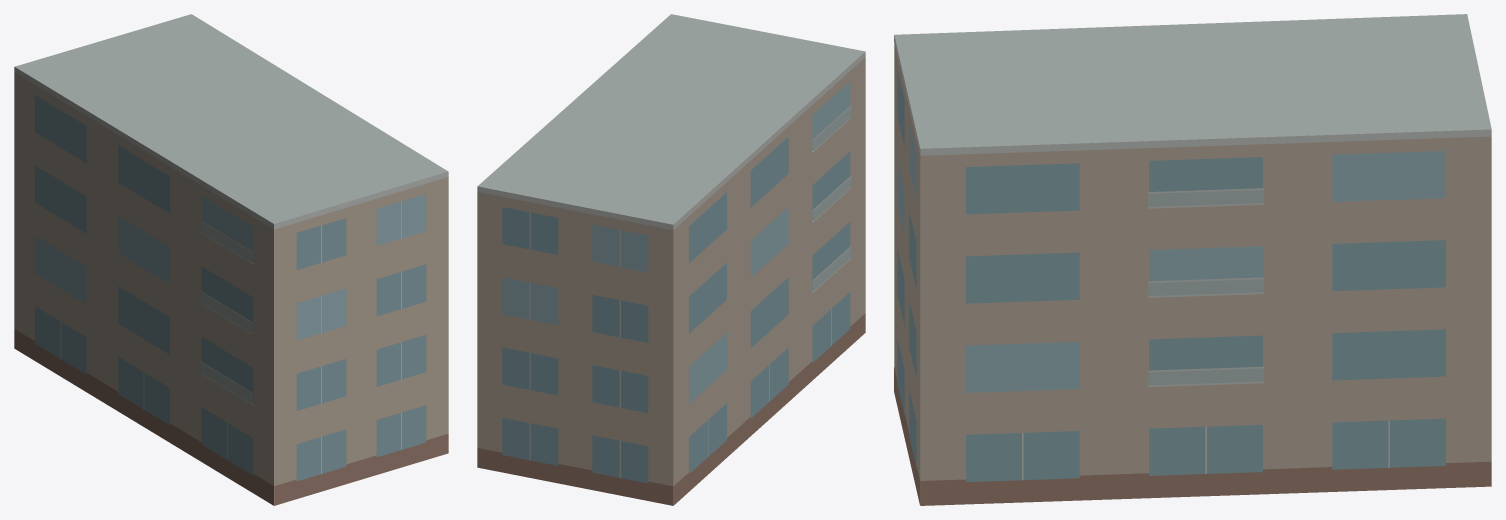
Rendered from survey-upis-32632824.glb.
3 views of the same model, side by side, from view 1: azimuth 30°, elevation 25°; view 2: azimuth 150°, elevation 25°; view 3: azimuth 270°, elevation 25° (orthographic). The views are drawn at different scales.
Visible parts, largest first — view 1: survey-upis-32632824.tmp; view 2: survey-upis-32632824.tmp; view 3: survey-upis-32632824.tmp.
Part boxes in pixels (<box>): survey-upis-32632824.tmp: <box>14,14,448,505</box>; survey-upis-32632824.tmp: <box>477,14,865,505</box>; survey-upis-32632824.tmp: <box>894,14,1491,505</box>.
Size of the model in its own units: 10.14 by 12.5 by 18.98.
